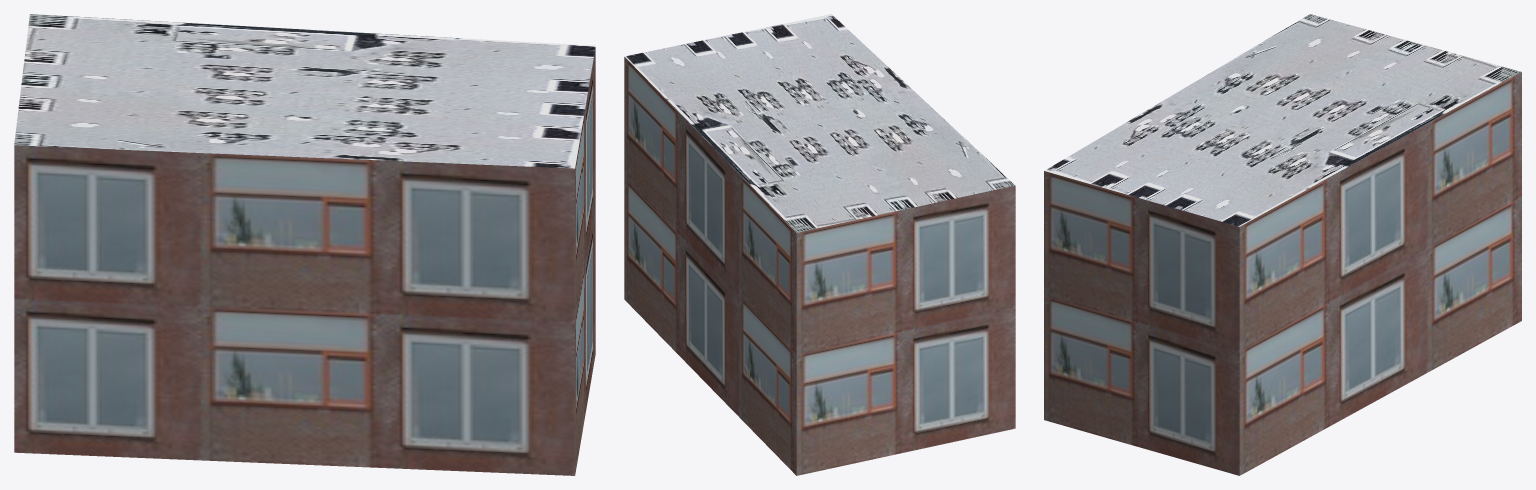
File: ResTex__4433.fbx
3 renders of one model, left to right at view 1: azimuth 30°, elevation 25°; view 2: azimuth 150°, elevation 25°; view 3: azimuth 270°, elevation 25°, orthographic. The views are drawn at different scales.
Visible parts, largest first — view 1: CityEngineMaterial_19_m, CityEngineMaterial_m; view 2: CityEngineMaterial_19_m, CityEngineMaterial_m; view 3: CityEngineMaterial_19_m, CityEngineMaterial_m.
Part boxes in pixels (box(x1,y1,x2,y2)): CityEngineMaterial_19_m: box(14, 48, 595, 475); CityEngineMaterial_m: box(14, 14, 595, 168); CityEngineMaterial_19_m: box(624, 57, 1015, 475); CityEngineMaterial_m: box(624, 14, 1015, 232); CityEngineMaterial_19_m: box(1044, 72, 1521, 475); CityEngineMaterial_m: box(1044, 14, 1521, 226).
Size of the model in its own units: 10.99 by 6 by 10.43.
Materials: 2 (2 with a texture image).
